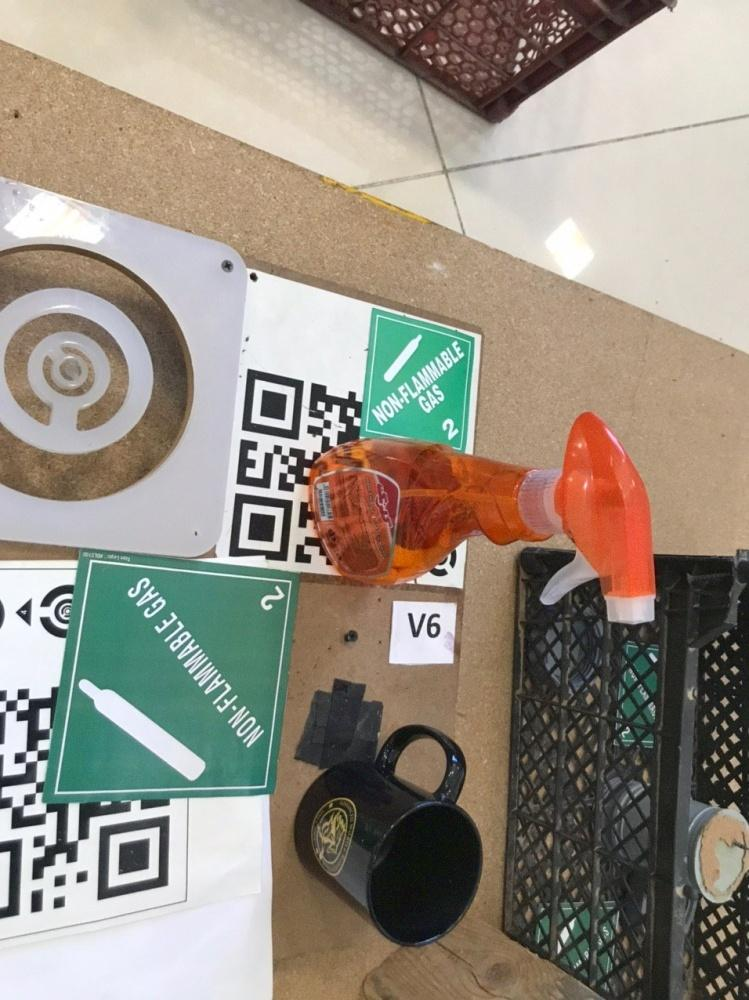non-flammable-gas: (44, 555, 301, 809), (364, 311, 475, 447)
